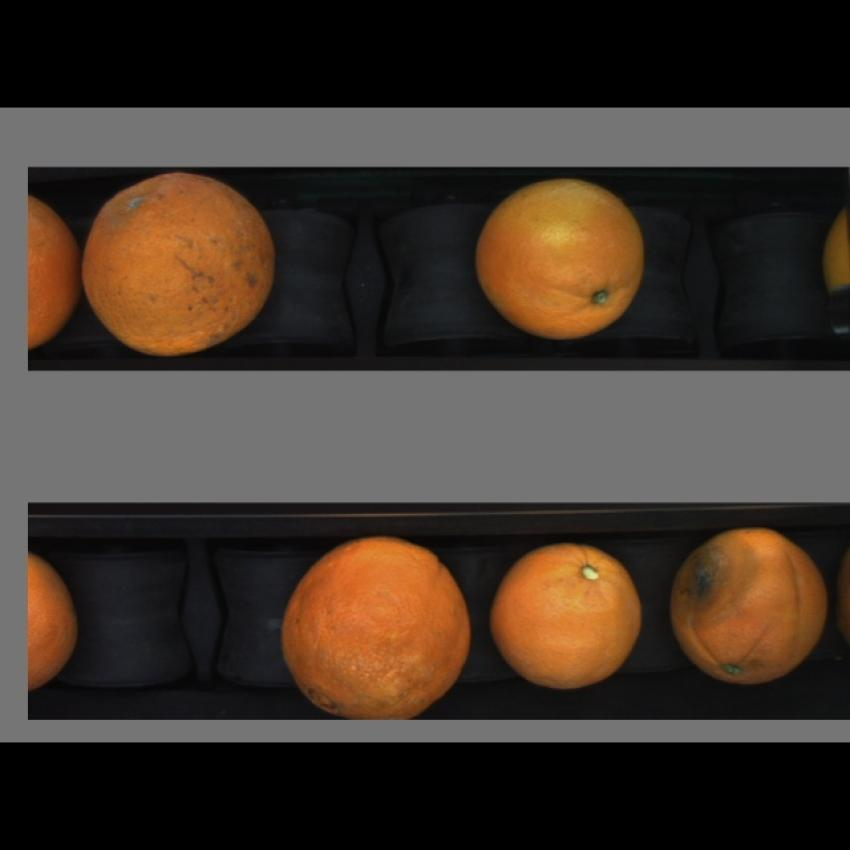Buen estado: (470, 176, 650, 343), (29, 188, 81, 358), (25, 544, 80, 696)
Mal estado: (279, 531, 472, 717), (82, 179, 283, 355), (665, 522, 831, 685), (489, 534, 648, 693)
